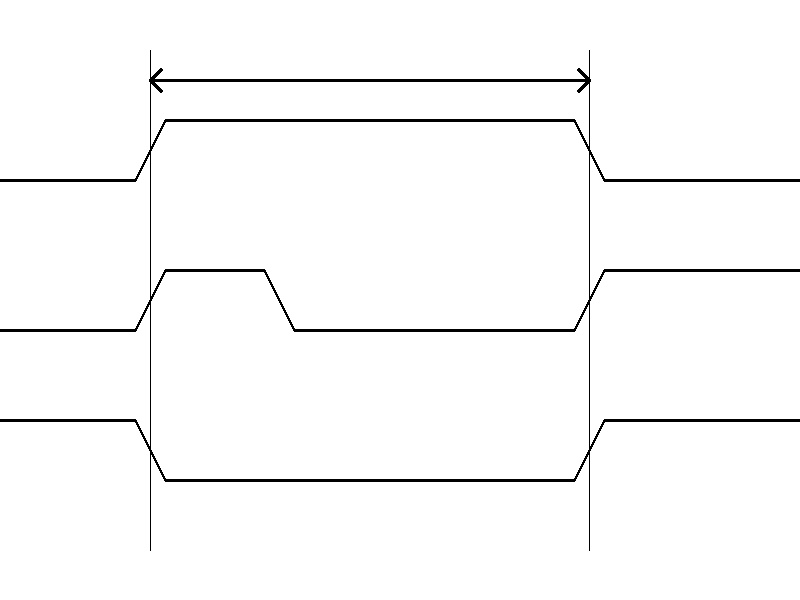double_arrow: (150, 65, 589, 95)
